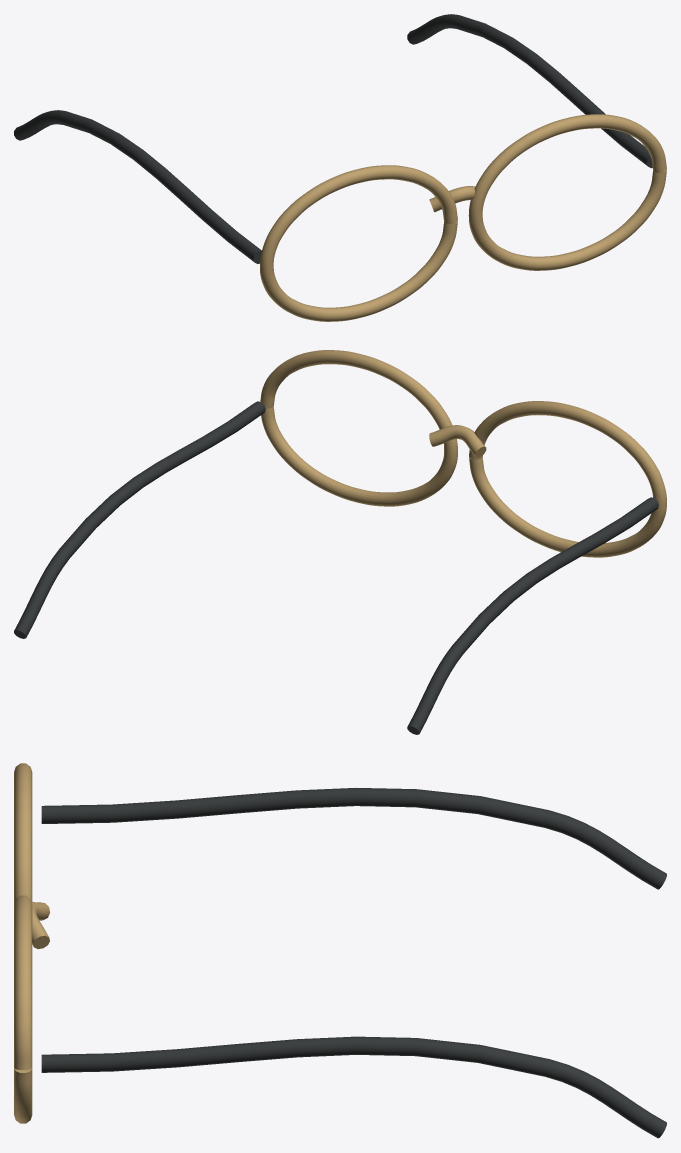
File: sku_glasses.glb
The picture shows the model from 3 angles, top to bottom: view 1: azimuth 30°, elevation 25°; view 2: azimuth 150°, elevation 25°; view 3: azimuth 270°, elevation 25°; orthographic projection. The views are drawn at different scales.
Parts seen in each view (by area): view 1: sku_glasses_Satin_champagne, sku_glasses_Anodised_graphite; view 2: sku_glasses_Satin_champagne, sku_glasses_Anodised_graphite; view 3: sku_glasses_Anodised_graphite, sku_glasses_Satin_champagne.
Part boxes in pixels (<box>): sku_glasses_Satin_champagne: <box>260,114,666,321</box>; sku_glasses_Anodised_graphite: <box>14,14,652,263</box>; sku_glasses_Satin_champagne: <box>260,350,666,557</box>; sku_glasses_Anodised_graphite: <box>14,401,658,734</box>; sku_glasses_Anodised_graphite: <box>41,788,666,1138</box>; sku_glasses_Satin_champagne: <box>14,763,49,1123</box>.
Bounding box in the file's own units: 0.132 × 0.0458 × 0.142.
